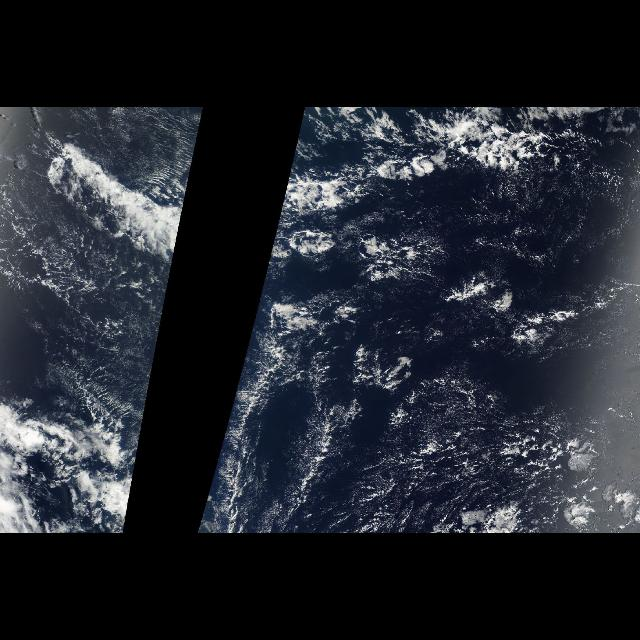Fish: (34, 134, 198, 274)
Sugar: (364, 369, 618, 531), (6, 221, 162, 415)
